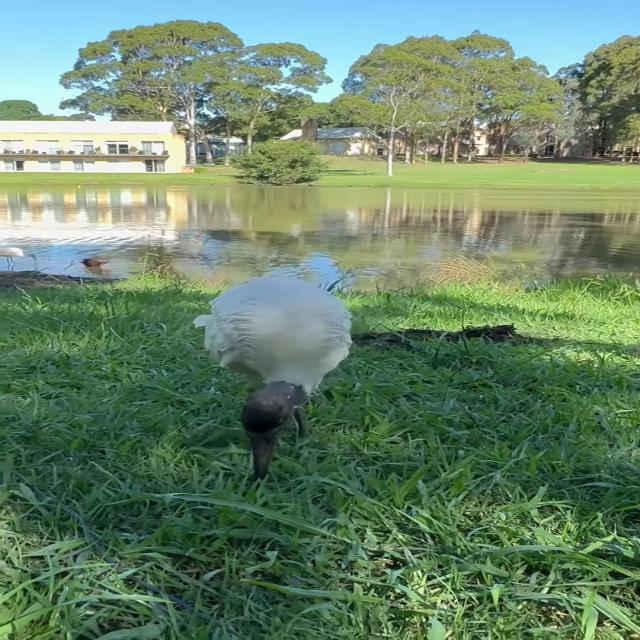Birds-Ibis: (188, 270, 361, 488), (0, 240, 41, 278)
Birds-Other: (75, 254, 115, 274)
